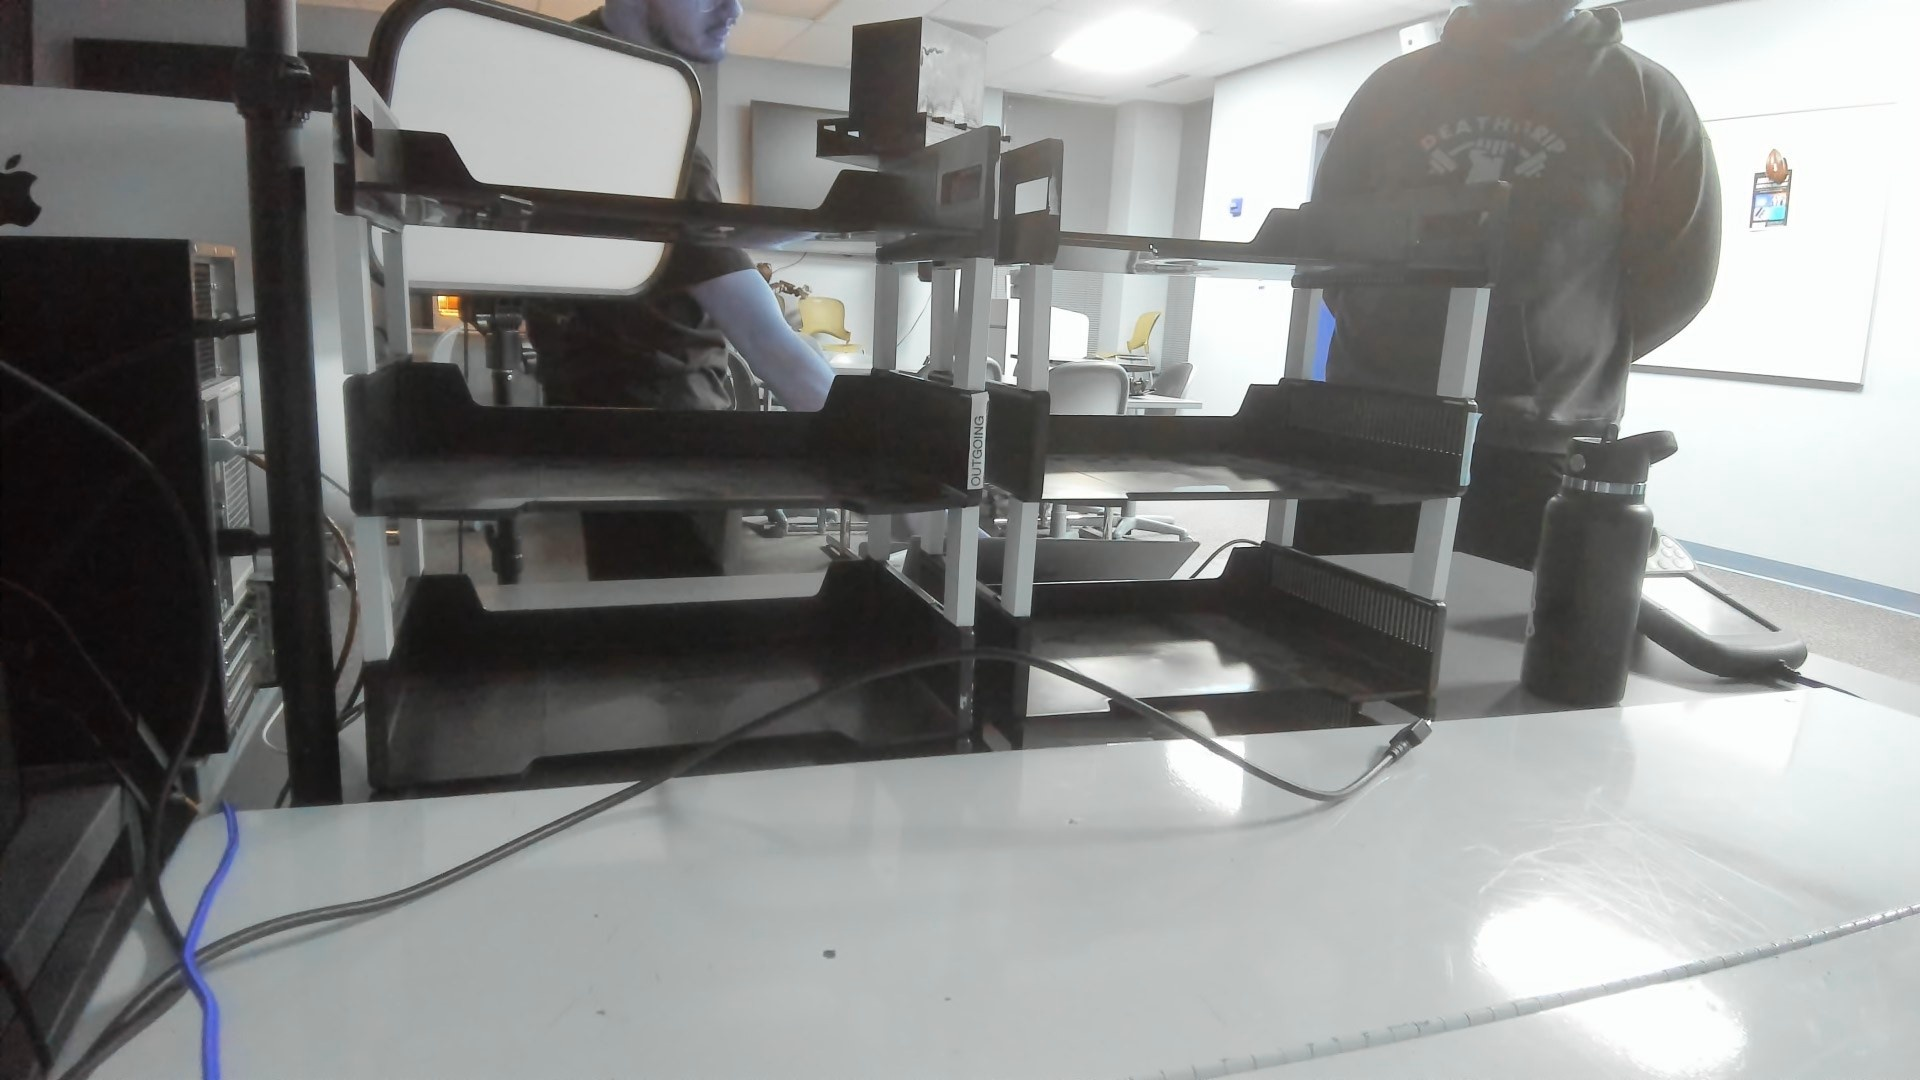black pallet: (810, 12, 1007, 165)
